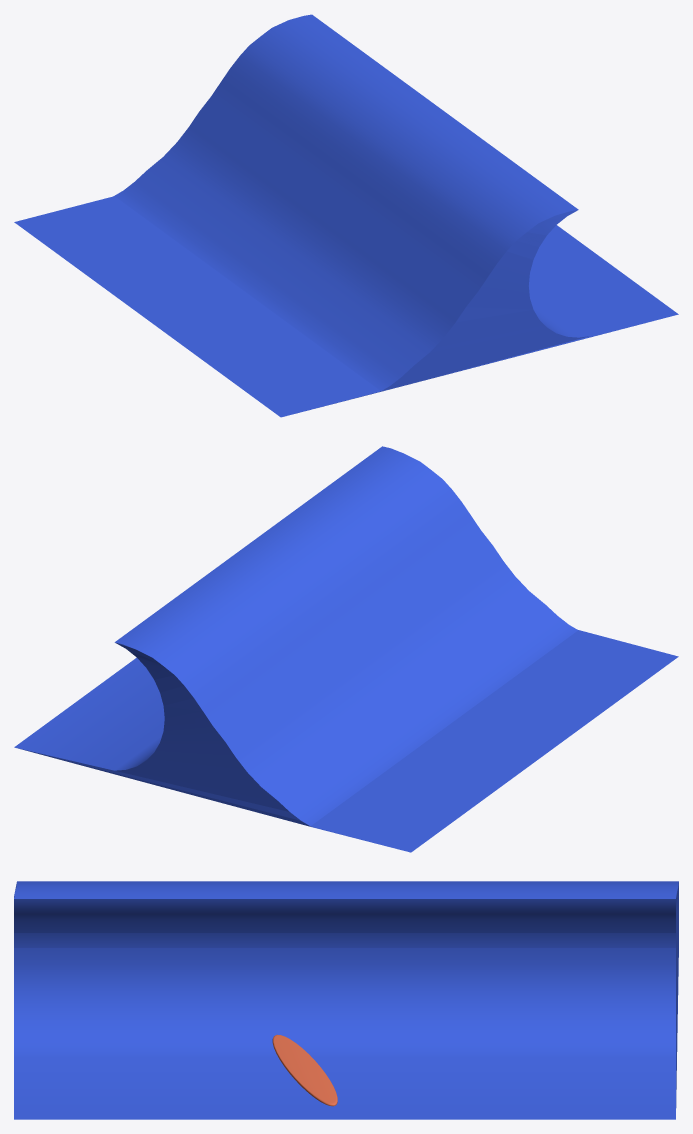
The model's file is wave.glb.
3 views of the same model, one above another, from view 1: azimuth 30°, elevation 25°; view 2: azimuth 150°, elevation 25°; view 3: azimuth 270°, elevation 25° (orthographic). The views are drawn at different scales.
Parts seen in each view (by area): view 1: Cylinder; view 2: Cylinder; view 3: Cylinder, Circle.
Part boxes in pixels (x1,y1,x2,y2): Cylinder: [14, 14, 678, 417]; Cylinder: [14, 446, 678, 852]; Cylinder: [14, 881, 678, 1119]; Circle: [272, 1034, 337, 1106].
Bounding box in the file's own units: 17.87 × 5.88 × 20.91.
